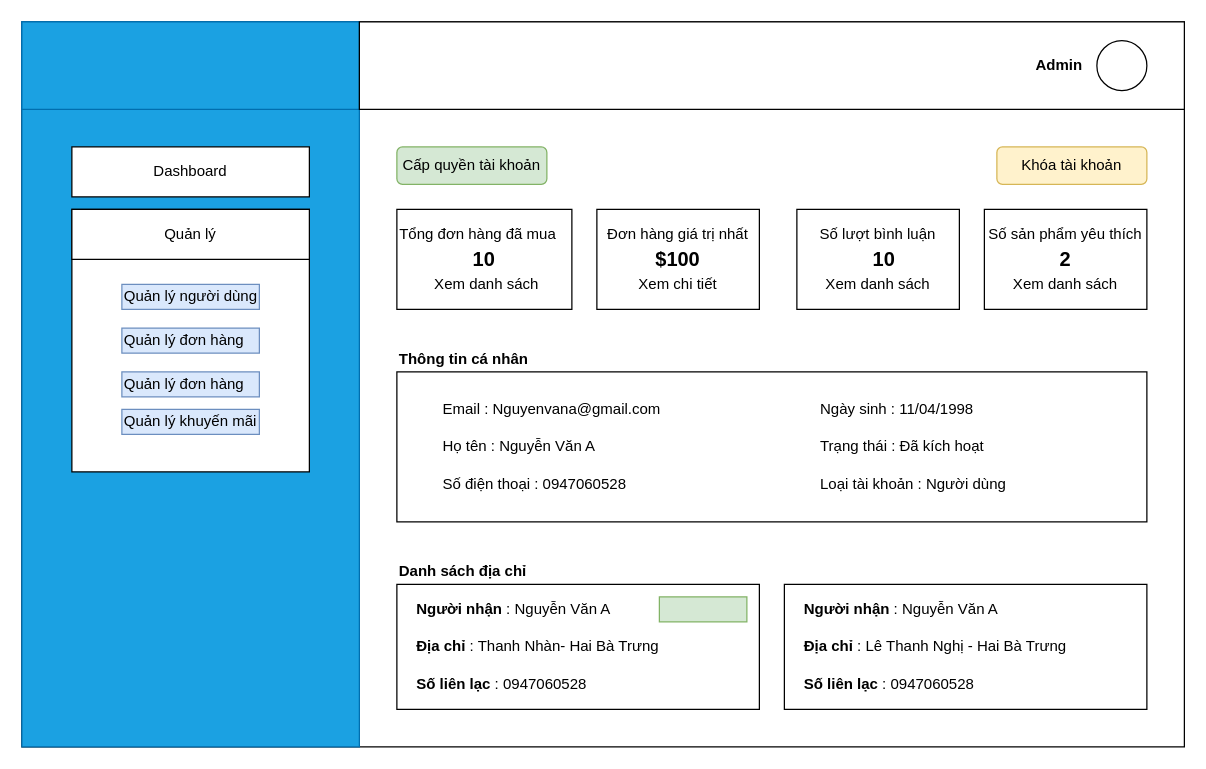
Image size: 1206x769. Some labels were removed from this diagram. The box of each missing label's shape, as (x1, y1, x2, y2) in pixels:
Mặc định: (658, 596, 747, 622)
Trang quản trị: (21, 21, 359, 109)
